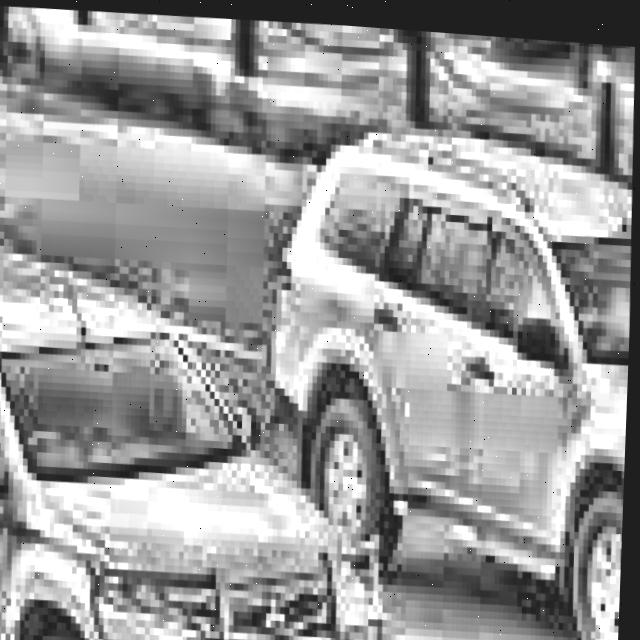light_vehicle: (0, 223, 398, 640)
